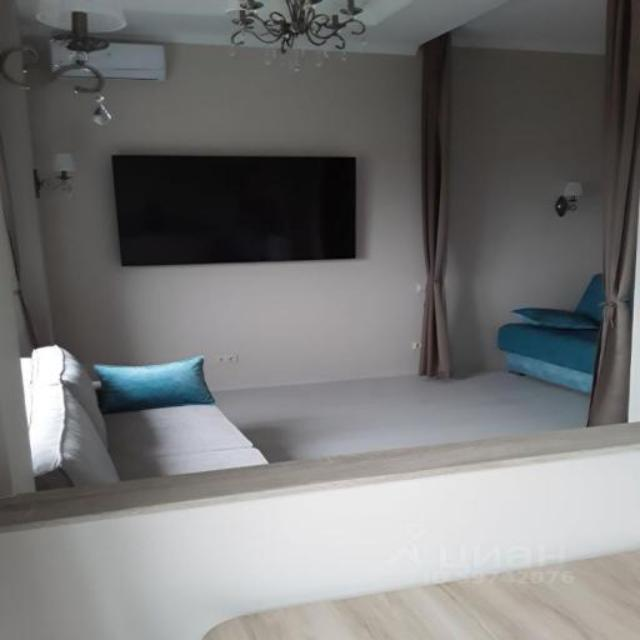Flat-Panel-TV: (111, 154, 357, 268)
